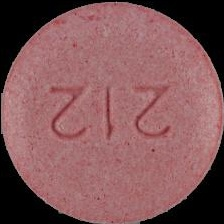0245-0212: (0, 0, 224, 224)
